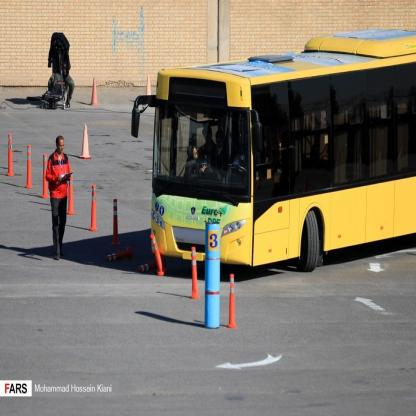Bus: (145, 23, 416, 279)
